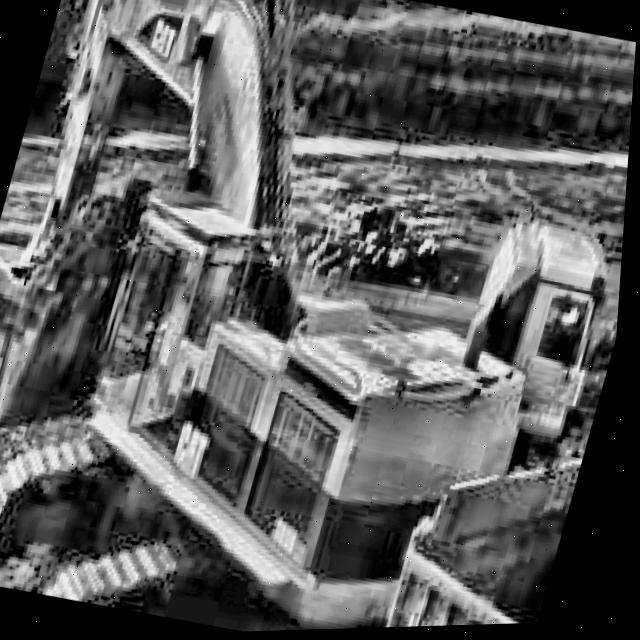dump_truck: (245, 166, 631, 477)
excavator: (0, 0, 612, 640)
